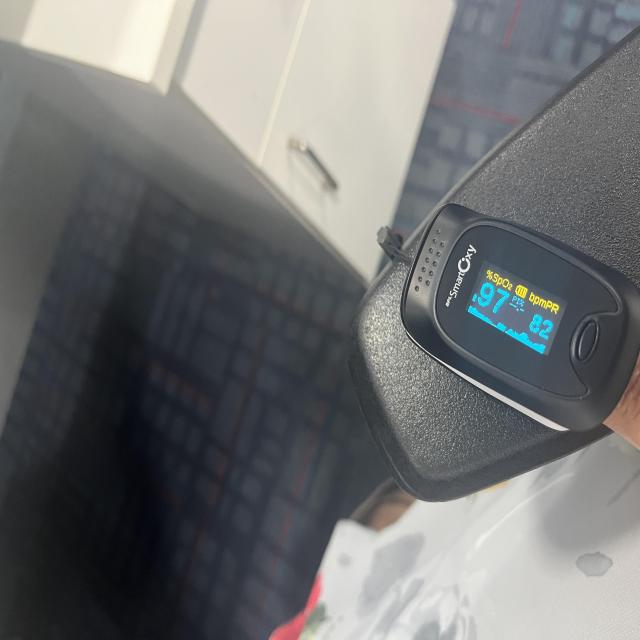spo2: (396, 215, 640, 458)
